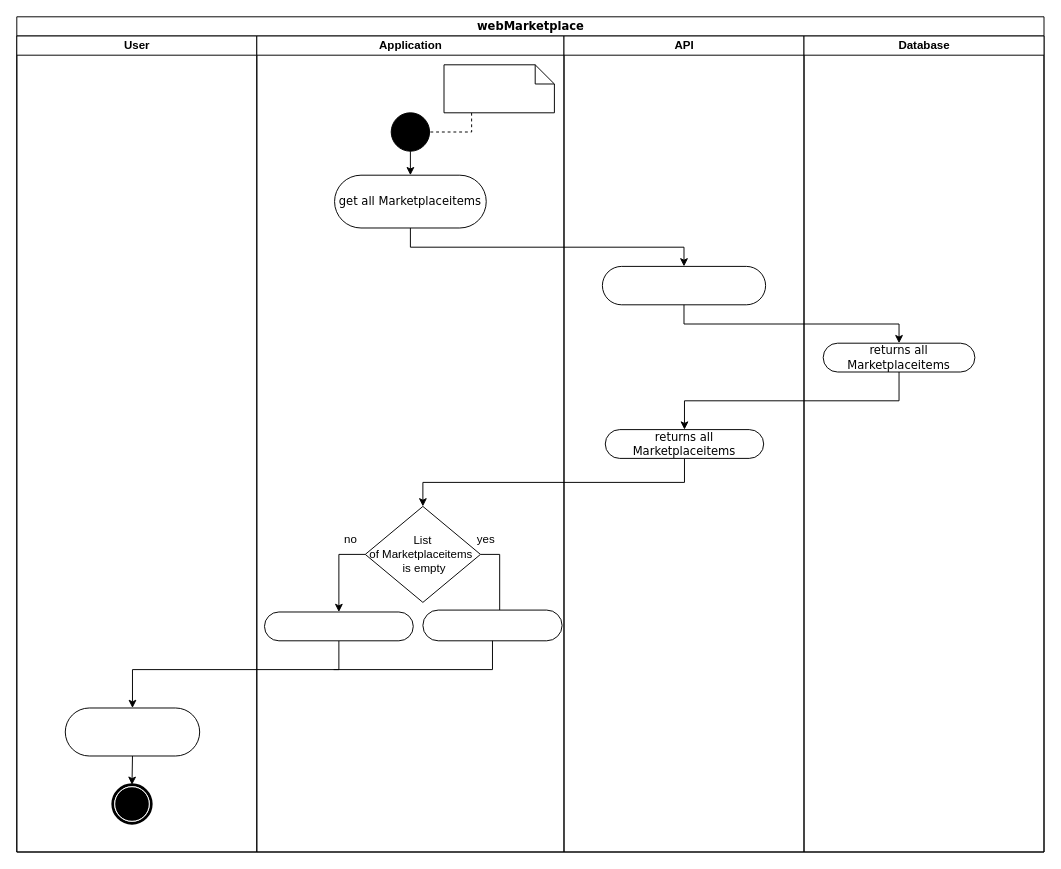
The diagram is 1061 pixels wide and 869 high, and some of its shapes have lost their labels. The centre of each missing label's shape, as x and y in pixels:
After login: pixel 498 88
display all Marketplaceitems: pixel 338 626
display placeholder "no Marketplaceitems ": pixel 492 625
get all Marketplaceitems from database: pixel 683 285
User now sees all Marketplaceitems: pixel 132 731
